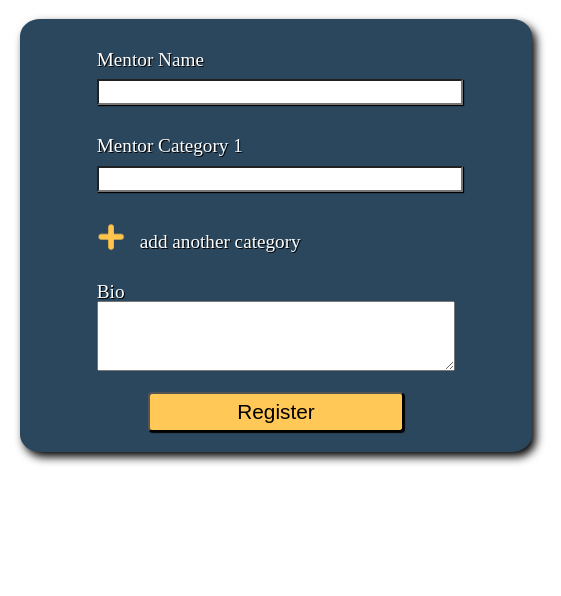
Scenario: should add category fields
Click the picture with alt text "plus sign". click: (111, 237)
box: [97,223,126,251]
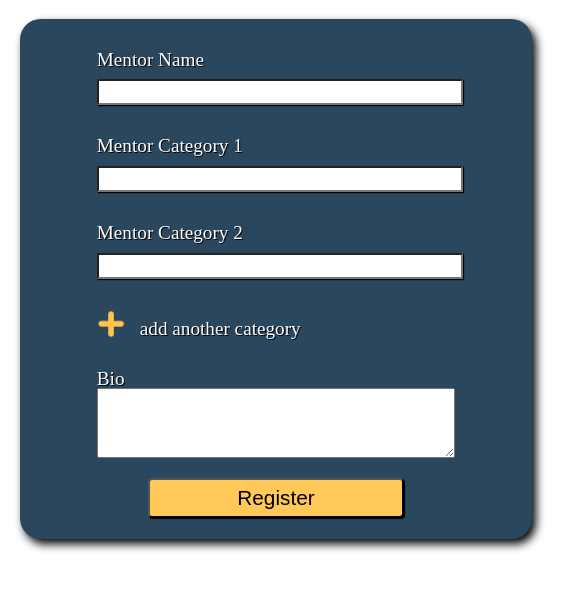
Click the picture with alt text "plus sign". click: (111, 324)
box: [97,310,126,338]
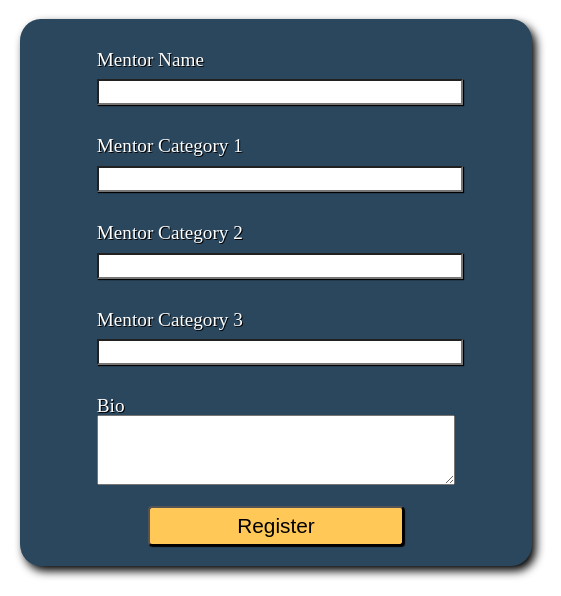
Check: the field labelled "Mentor Category 2" is shown, box [97,253,463,279]
Check: the field labelled "Mentor Category 3" is shown, box [97,340,463,366]
